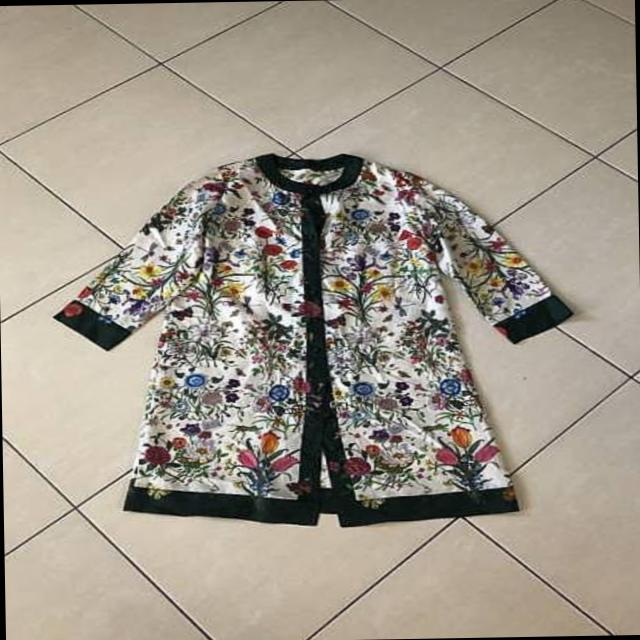T_SHIRT: (42, 138, 590, 540)
